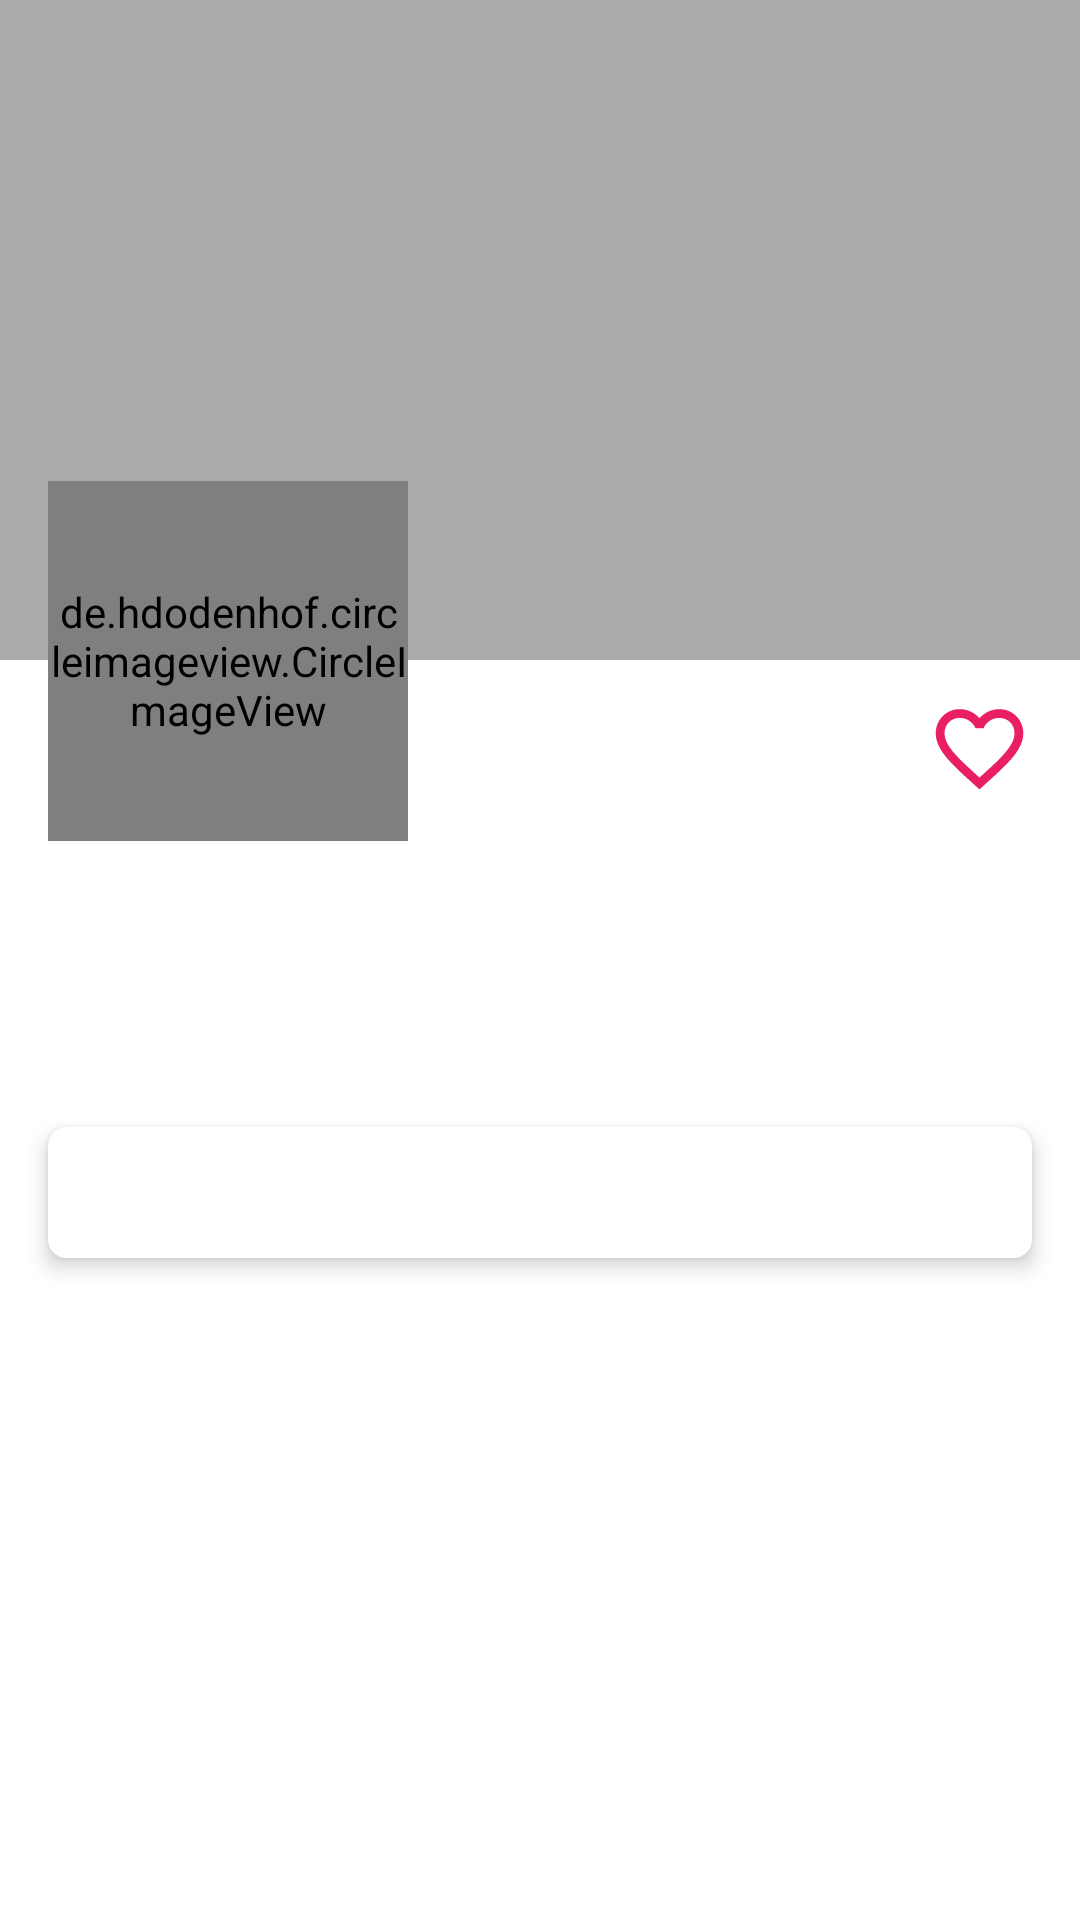

Icon click points for this 1080×1920 phone screenshot, format [x,y]:
favorite border: [979,749]
